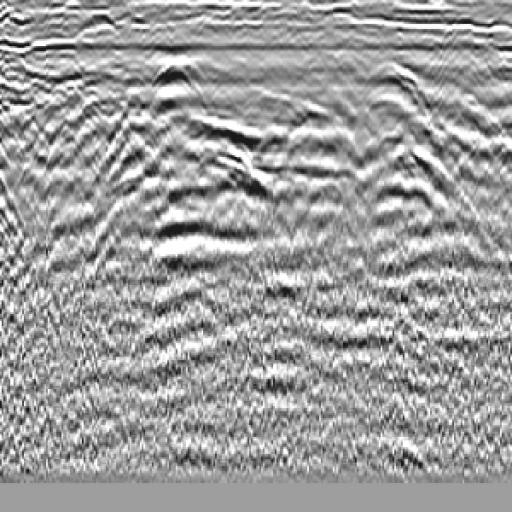metalic: (113, 48, 242, 117)
